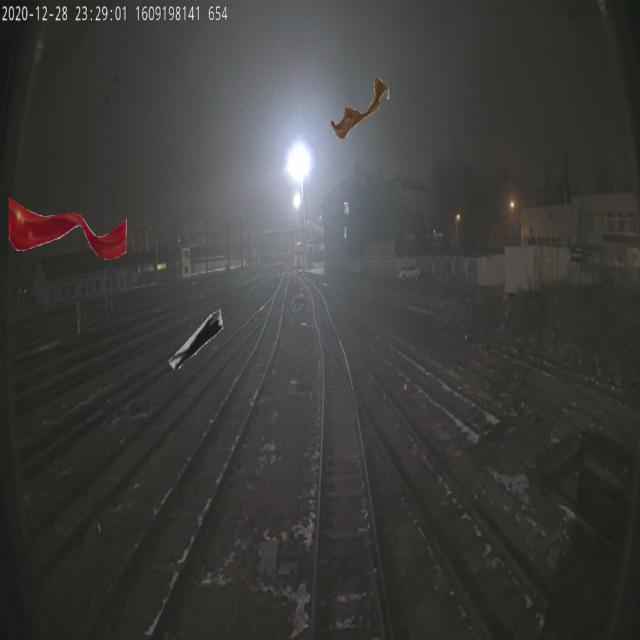floating object: (6, 197, 129, 260), (159, 309, 231, 370), (331, 76, 389, 140)
